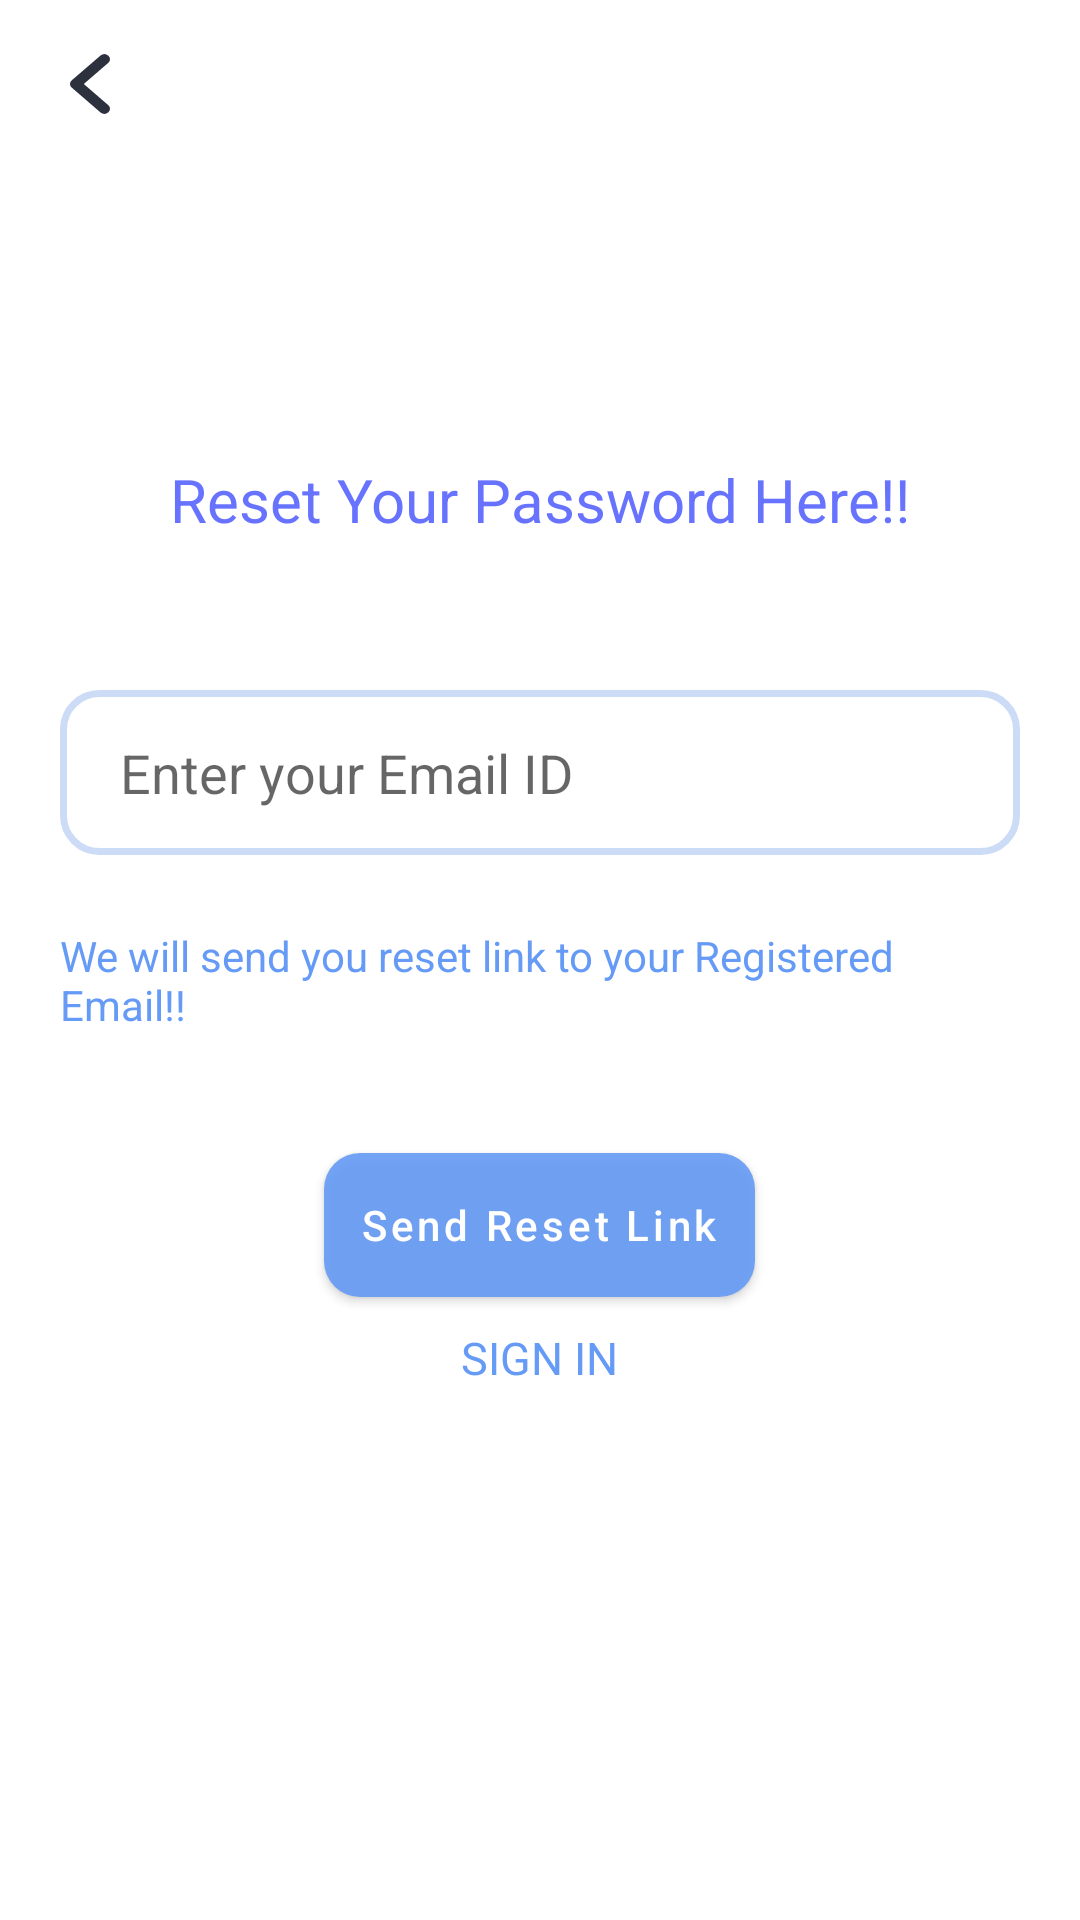

Named icons in this screenshot (1080px×1920px) and their centers, point (x, y):
back: point (90, 84)
